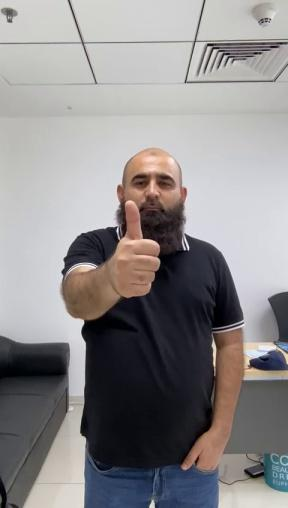thumbs-up: (104, 202, 166, 298)
